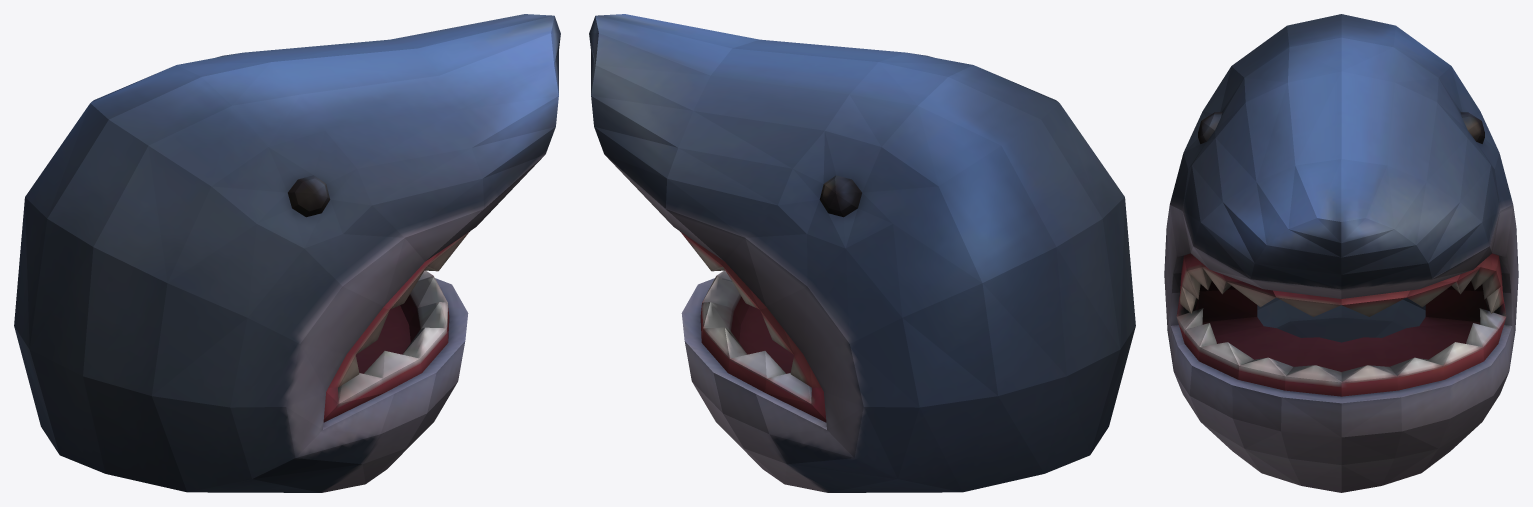
The model's file is SHARK HEAD.fbx.
The picture shows the model from 3 angles, left to right: view 1: azimuth 30°, elevation 25°; view 2: azimuth 150°, elevation 25°; view 3: azimuth 270°, elevation 25°; orthographic projection. The views are drawn at different scales.
Parts seen in each view (by area): view 1: SHARK_HEAD; view 2: SHARK_HEAD; view 3: SHARK_HEAD.
Part boxes in pixels (<box>): SHARK_HEAD: <box>14,14,560,492</box>; SHARK_HEAD: <box>589,14,1135,492</box>; SHARK_HEAD: <box>1164,14,1518,492</box>.
Size of the model in its own units: 52.35 by 37.93 by 32.31.
